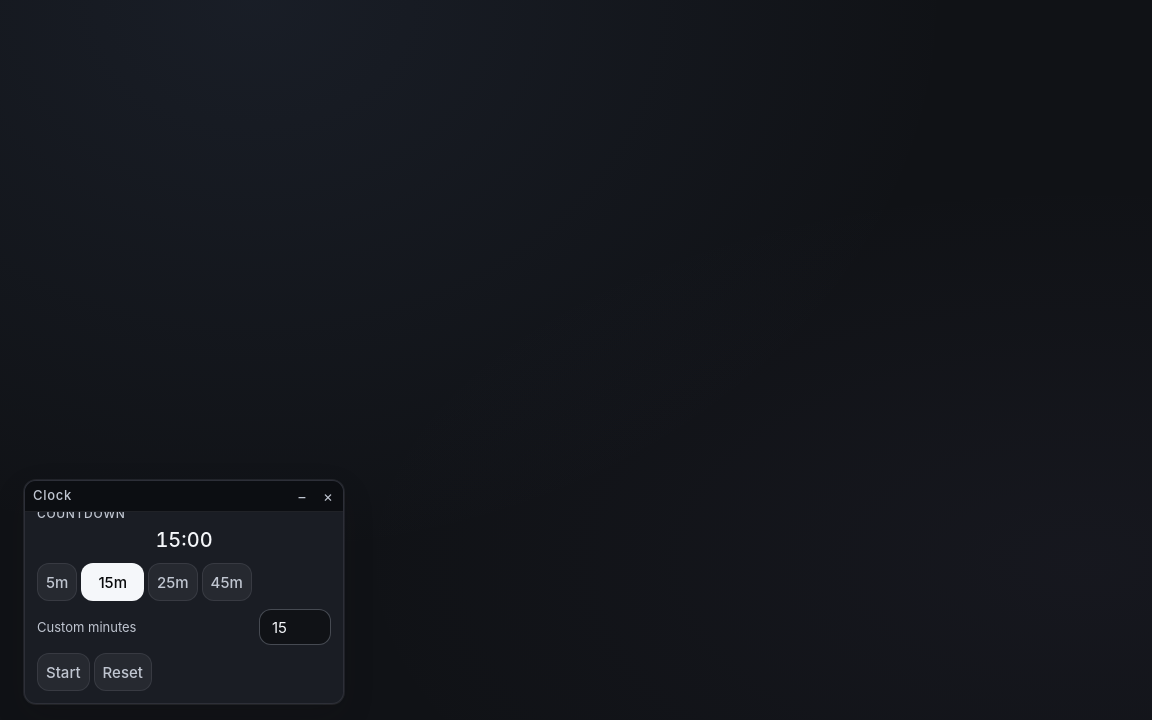
it: ClockPanel — countdown completion (done exactly once) › reaching zero plays the chime once and flashes the pill, even across repeated done=true ticks
The width and height of the screenshot is (1152, 720).
(page scrolled)
Replace the text in the number field labelled "Custom minutes" with "1" at (295, 627), box top-left (259, 609), bottom-right (331, 645)
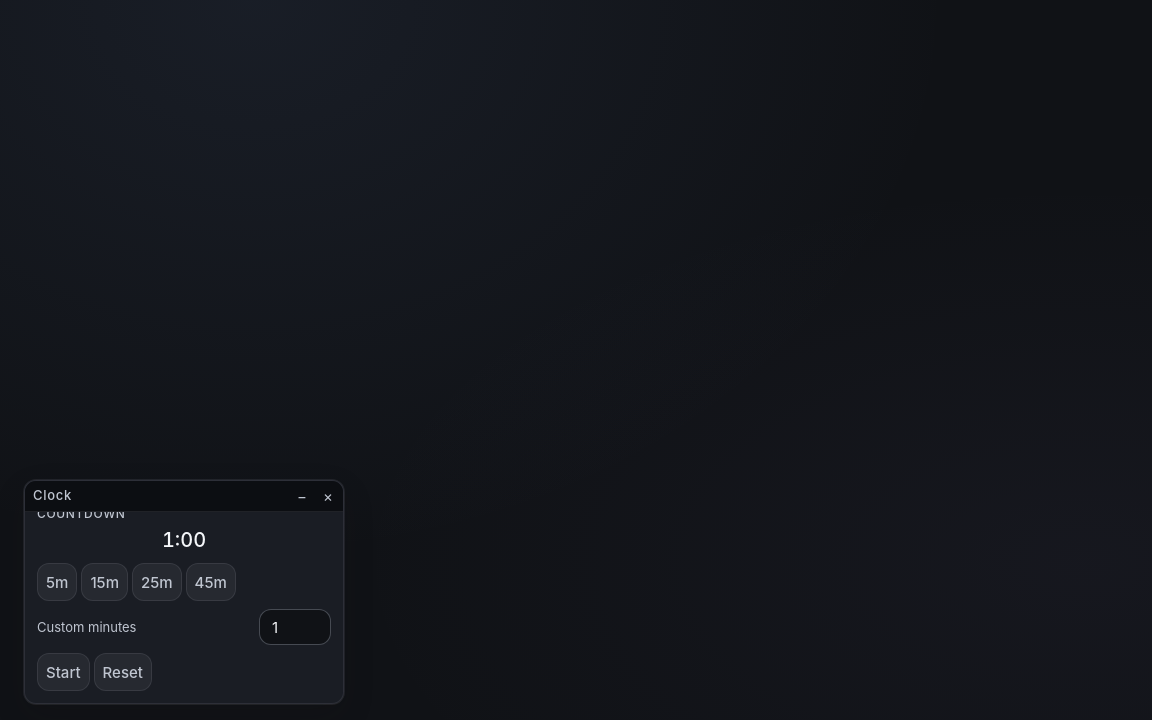
Click the button "Start" at (63, 672), box top-left (37, 653), bottom-right (90, 691)
Wait 65000 ms
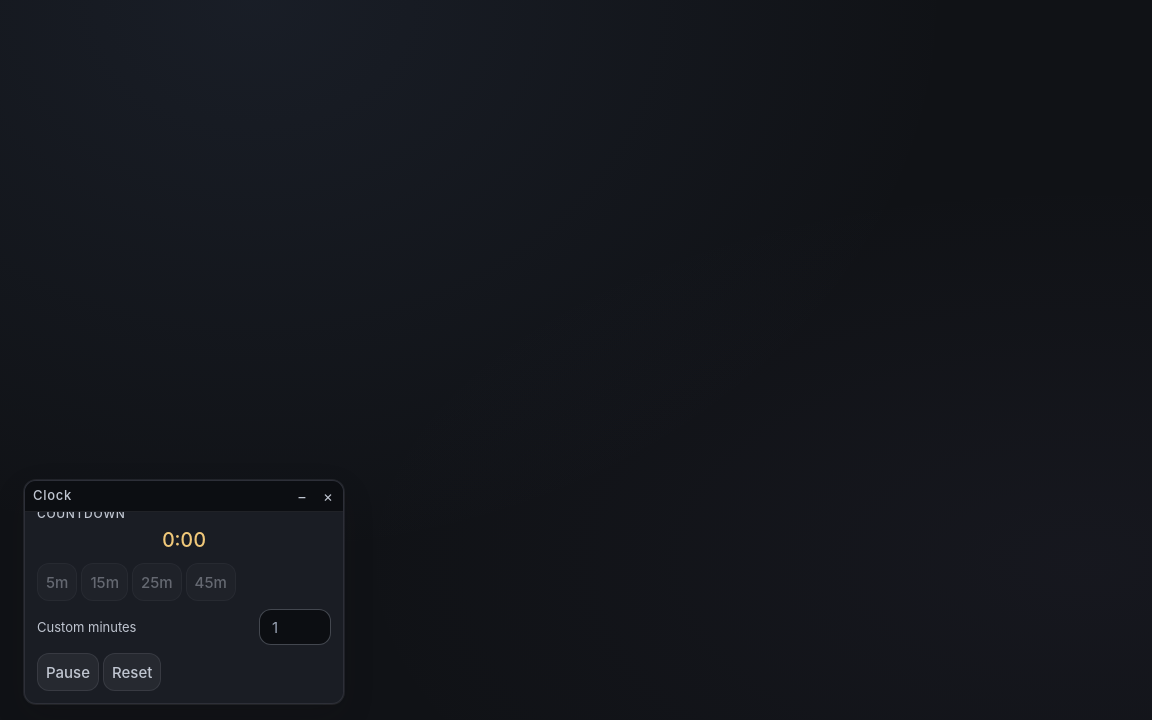
Now the text "0:00" is shown, box top-left (162, 528), bottom-right (206, 552)
